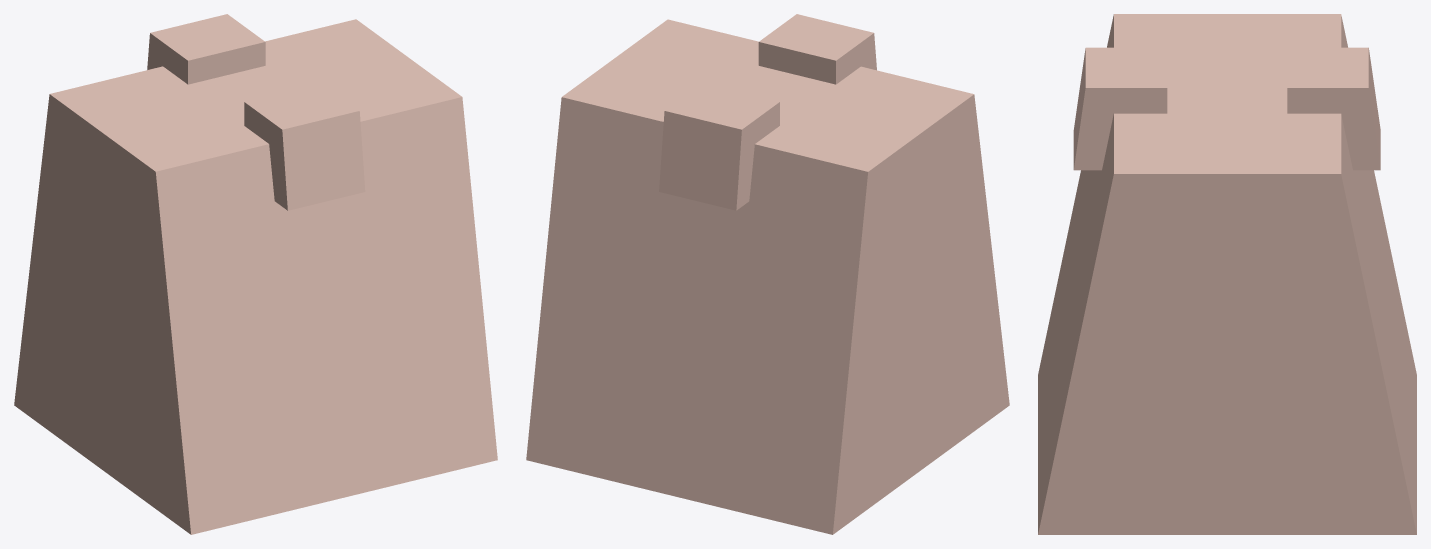
The picture shows the model from 3 angles, left to right: view 1: azimuth 30°, elevation 25°; view 2: azimuth 150°, elevation 25°; view 3: azimuth 270°, elevation 25°; orthographic projection. The views are drawn at different scales.
Parts seen in each view (by area): view 1: Object09; view 2: Object09; view 3: Object09.
Boxes of the visible parts, bbox=[...] form: Object09: bbox=[14, 14, 497, 534]; Object09: bbox=[526, 14, 1009, 534]; Object09: bbox=[1038, 14, 1416, 534].
Size of the model in its own units: 100 by 113 by 100.
